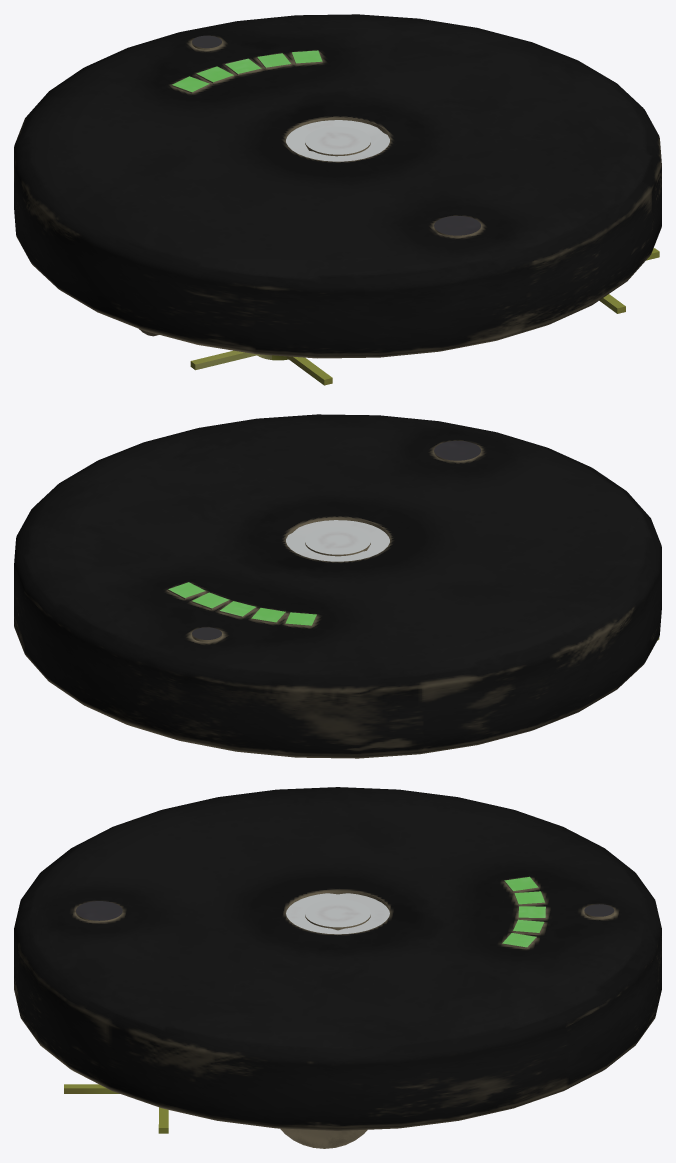
The model's file is Roomba on ground Unity.fbx.
3 views of the same model, one above another, from view 1: azimuth 30°, elevation 25°; view 2: azimuth 150°, elevation 25°; view 3: azimuth 270°, elevation 25° (orthographic).
Parts seen in each view (by area): view 1: Roomba On Ground, Left Brush; view 2: Roomba On Ground; view 3: Roomba On Ground, Right Wheel, Right Brush.
Boxes of the visible parts, x1=… form: Roomba On Ground: x1=14, y1=14, x2=661, y2=358; Left Brush: x1=190, y1=350, x2=332, y2=385; Roomba On Ground: x1=14, y1=414, x2=661, y2=758; Roomba On Ground: x1=14, y1=787, x2=661, y2=1130; Right Wheel: x1=280, y1=1128, x2=367, y2=1148; Right Brush: x1=64, y1=1084, x2=168, y2=1133.
Size of the model in its own units: 38.3 by 9.33 by 38.3.
